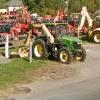Tractor: (32, 15, 86, 68)
